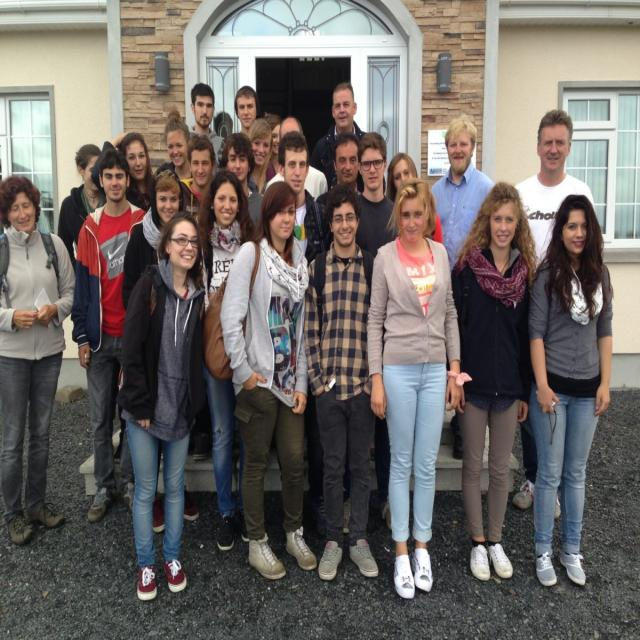body: (364, 172, 474, 604), (217, 178, 320, 584), (446, 180, 542, 584), (117, 209, 213, 604), (67, 145, 161, 528), (511, 107, 597, 520), (527, 193, 614, 588), (0, 170, 82, 551), (302, 181, 380, 581), (121, 161, 200, 534), (428, 116, 497, 460), (196, 170, 256, 552), (310, 79, 388, 197), (276, 129, 335, 271), (56, 142, 107, 278), (89, 129, 158, 211), (356, 132, 401, 257), (264, 115, 328, 202), (176, 81, 228, 171), (218, 131, 264, 225), (314, 130, 363, 213), (0, 161, 52, 238), (178, 134, 217, 221), (247, 116, 275, 196), (163, 108, 194, 180), (384, 150, 420, 204), (263, 110, 284, 184), (232, 84, 260, 136), (208, 105, 236, 132)
